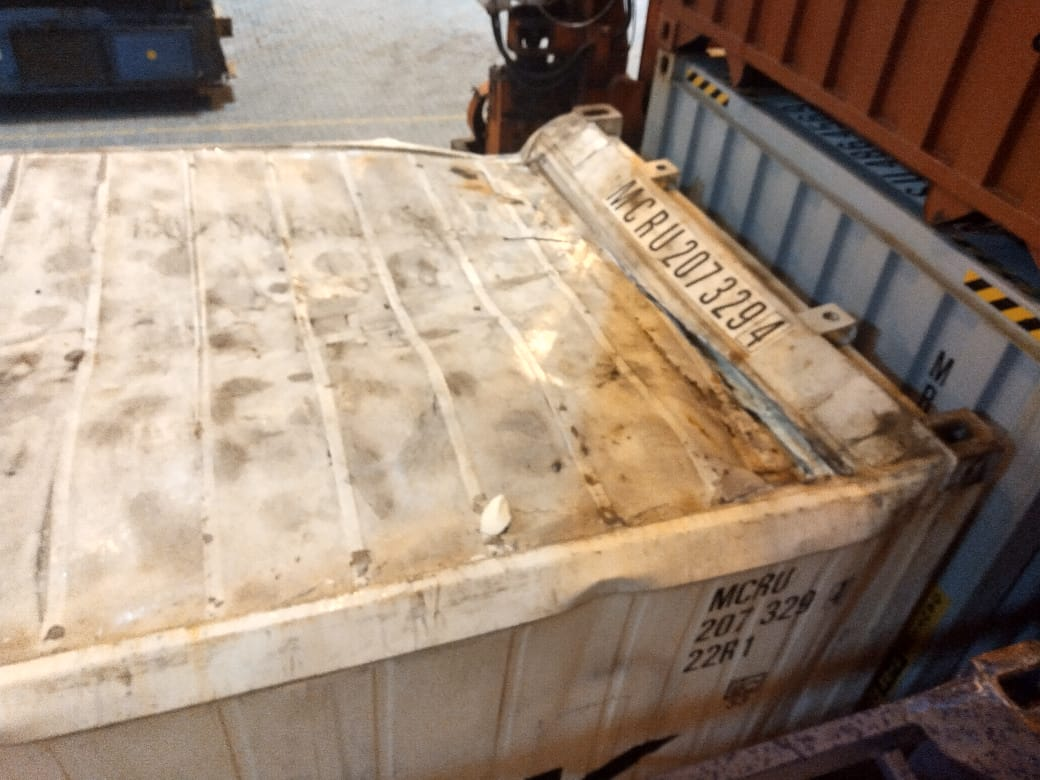rust: (598, 336, 768, 487)
